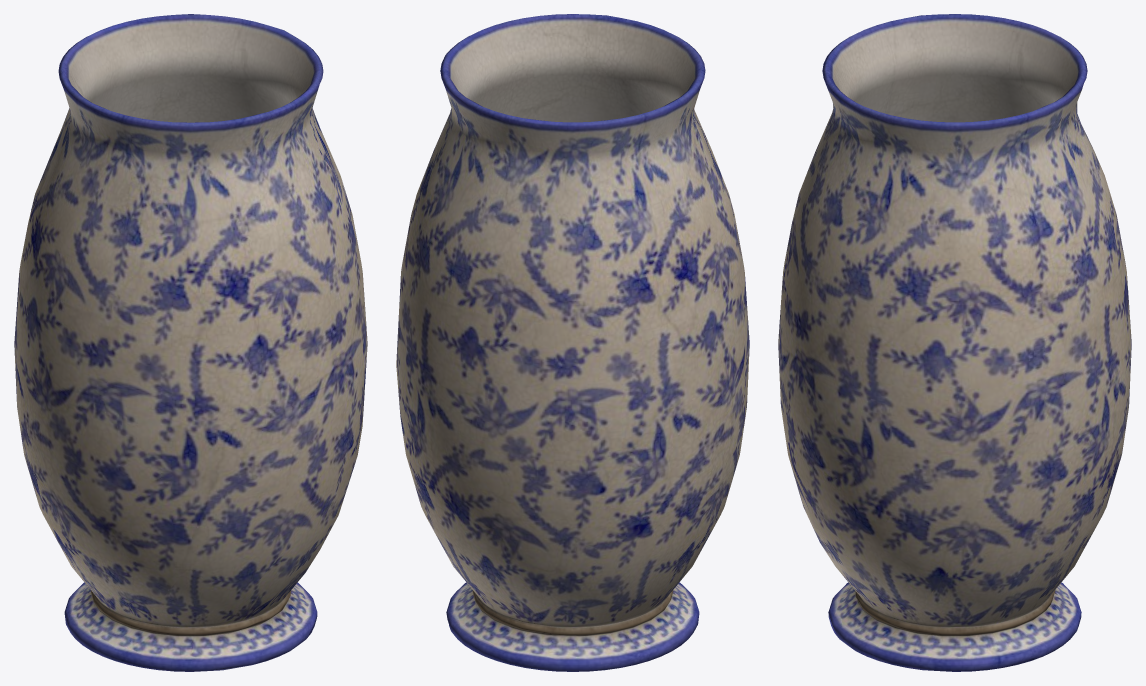
The model's file is antique_ceramic_vase_01_lod2.glb.
3 renders of one model, left to right at view 1: azimuth 30°, elevation 25°; view 2: azimuth 150°, elevation 25°; view 3: azimuth 270°, elevation 25°, orthographic.
Parts seen in each view (by area): view 1: antique_ceramic_vase_01; view 2: antique_ceramic_vase_01; view 3: antique_ceramic_vase_01.
Part boxes in pixels (x1,y1,x2,y2): antique_ceramic_vase_01: [14, 14, 367, 671]; antique_ceramic_vase_01: [396, 14, 749, 671]; antique_ceramic_vase_01: [778, 14, 1131, 671].
Size of the model in its own units: 0.2549 by 0.4396 by 0.255.
Materials: 1 (1 with a texture image).
